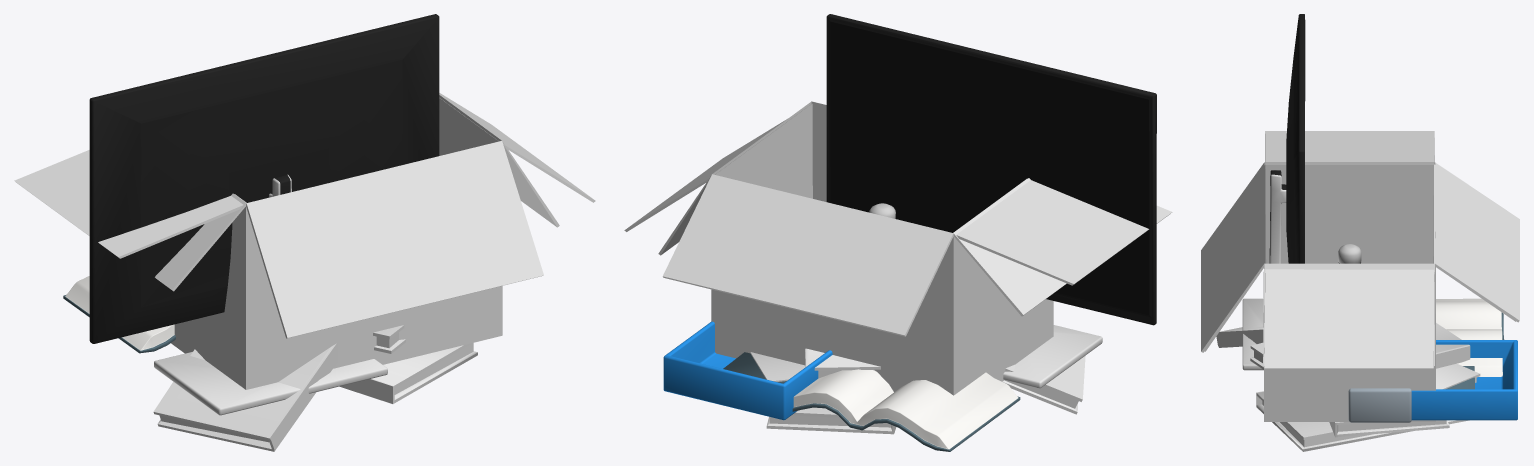
File: Office_Clutter.fbx
The picture shows the model from 3 angles, left to right: view 1: azimuth 30°, elevation 25°; view 2: azimuth 150°, elevation 25°; view 3: azimuth 270°, elevation 25°; orthographic projection. The views are drawn at different scales.
Visible parts, largest first — view 1: Computer, CardboardBox2, BookPile, CardboardBox, BookOpen; view 2: Computer, CardboardBox2, CardboardBox, BookOpen, Folder, BookPile, Book; view 3: CardboardBox, CardboardBox2, Computer, BookPile, Folder, BookOpen, TissueBox, Bottle.
Boxes of the visible parts, x1,y1,x2,y2 form: Computer: [89, 14, 439, 415]; CardboardBox2: [155, 95, 559, 389]; BookPile: [153, 325, 477, 451]; CardboardBox: [14, 93, 595, 258]; BookOpen: [63, 276, 175, 353]; Computer: [826, 14, 1156, 388]; CardboardBox2: [658, 101, 1066, 395]; CardboardBox: [624, 103, 1172, 285]; BookOpen: [792, 369, 1020, 451]; Folder: [663, 321, 832, 420]; BookPile: [750, 348, 1085, 434]; Book: [723, 352, 786, 383]; CardboardBox: [1204, 131, 1516, 368]; CardboardBox2: [1201, 162, 1519, 421]; Computer: [1242, 14, 1305, 370]; BookPile: [1216, 323, 1480, 451]; Folder: [1411, 340, 1517, 420]; BookOpen: [1436, 298, 1504, 376]; TissueBox: [1348, 388, 1411, 422]; Bottle: [1338, 244, 1361, 263].
Bounding box in the file's own units: 0.8597 × 0.5996 × 0.6066.
